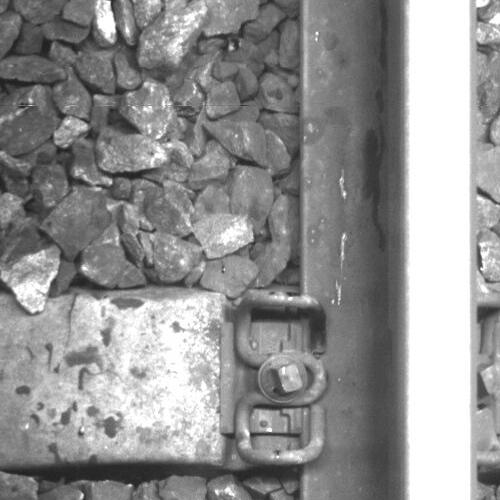rail: (401, 1, 476, 500)
tie_concr: (1, 293, 301, 463)
vossloh: (222, 291, 331, 467)
